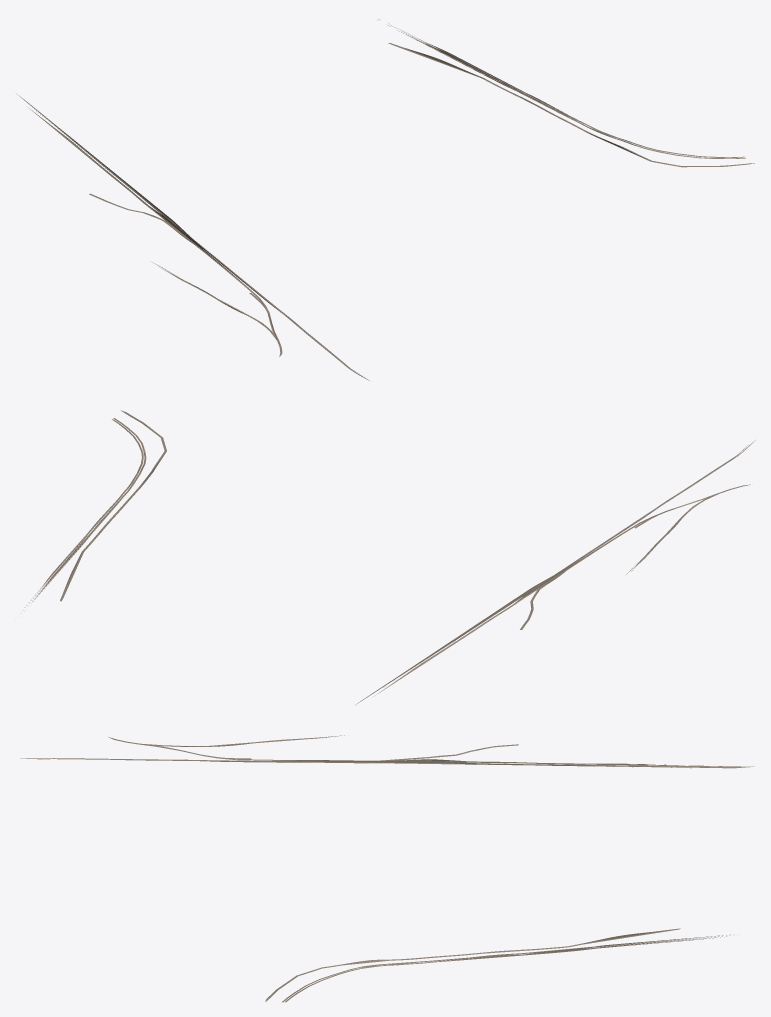
Rendered from rail_1_2.glb.
The picture shows the model from 3 angles, top to bottom: view 1: azimuth 30°, elevation 25°; view 2: azimuth 150°, elevation 25°; view 3: azimuth 270°, elevation 25°; orthographic projection. The views are drawn at different scales.
Parts seen in each view (by area): view 1: geometry_0; view 2: geometry_0; view 3: geometry_0.
Part boxes in pixels (box(x1,y1,x2,y2)): geometry_0: box(16, 23, 754, 380); geometry_0: box(24, 410, 755, 704); geometry_0: box(20, 735, 754, 1002).
Size of the model in its own units: 1017 by 10.88 by 1208.
